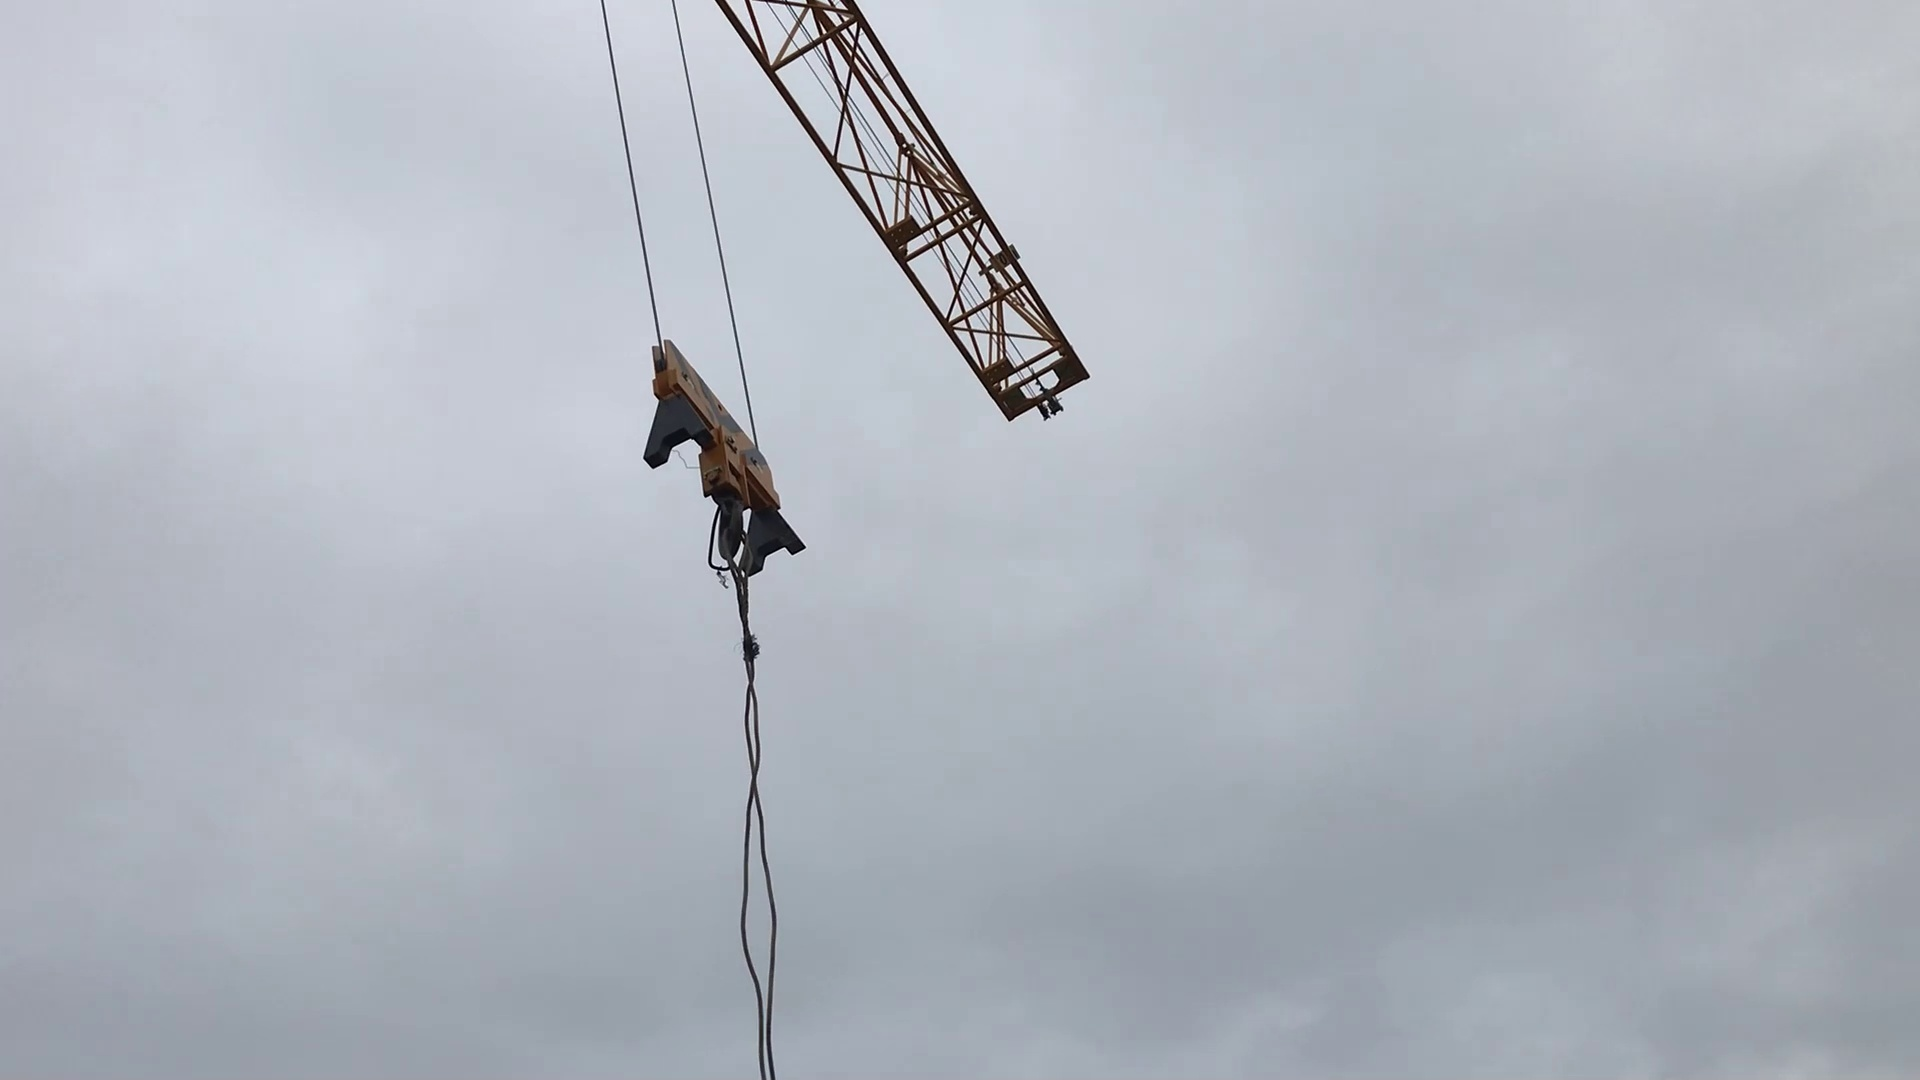hook: (620, 318, 811, 611)
